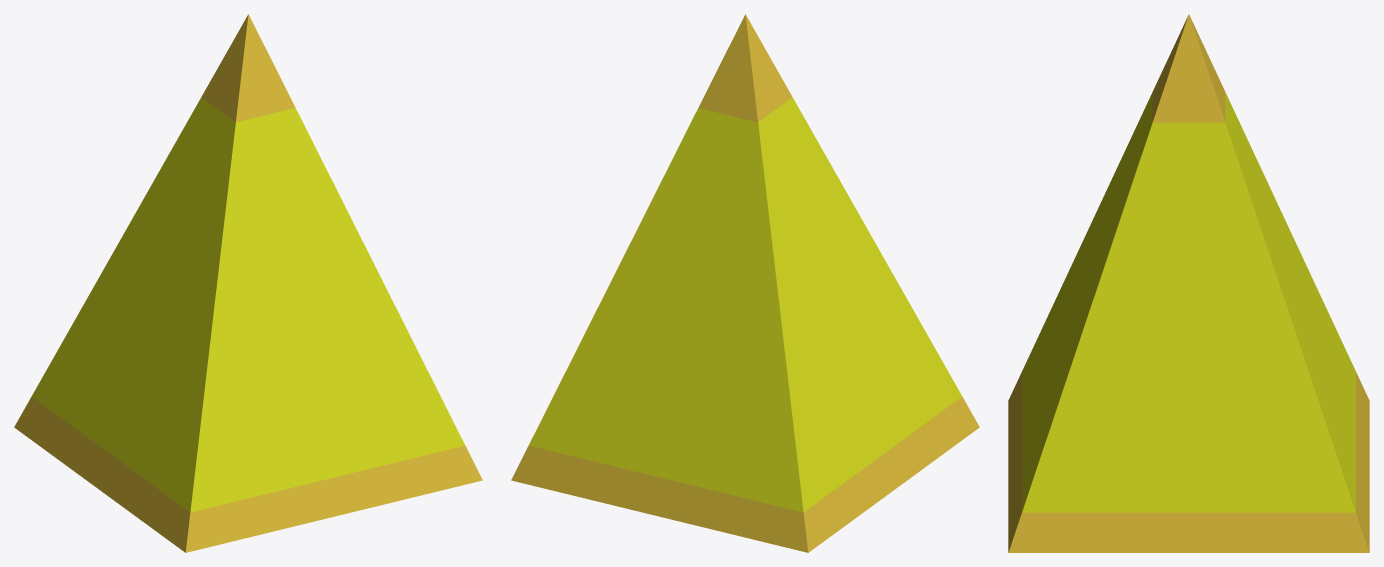
The model's file is brazo-trianguloPlayer.glb.
3 views of the same model, side by side, from view 1: azimuth 30°, elevation 25°; view 2: azimuth 150°, elevation 25°; view 3: azimuth 270°, elevation 25° (orthographic). The views are drawn at different scales.
Parts seen in each view (by area): view 1: Cone; view 2: Cone; view 3: Cone.
Part boxes in pixels (bbox=[...]): Cone: bbox=[14, 14, 482, 552]; Cone: bbox=[511, 14, 979, 552]; Cone: bbox=[1008, 14, 1369, 552].
Bounding box in the file's own units: 1.18 × 1.67 × 1.18.
